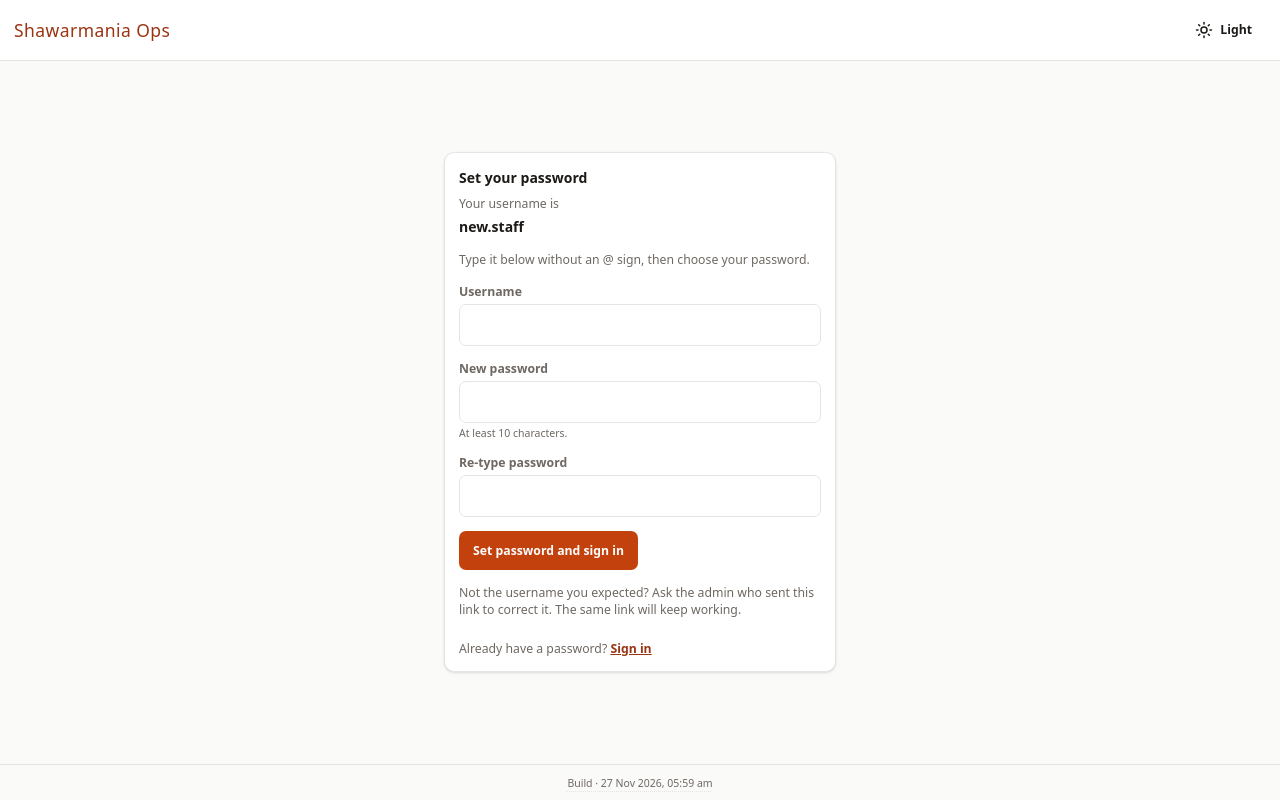
Scenario: activation › does not consume the code when the typed username differs
The image size is (1280, 800).
Expected: the text "new.staff" is shown, left=459, top=217, right=524, bottom=236
Type "other.person" into the field labelled "Username" at (640, 325), box left=459, top=304, right=821, bottom=346
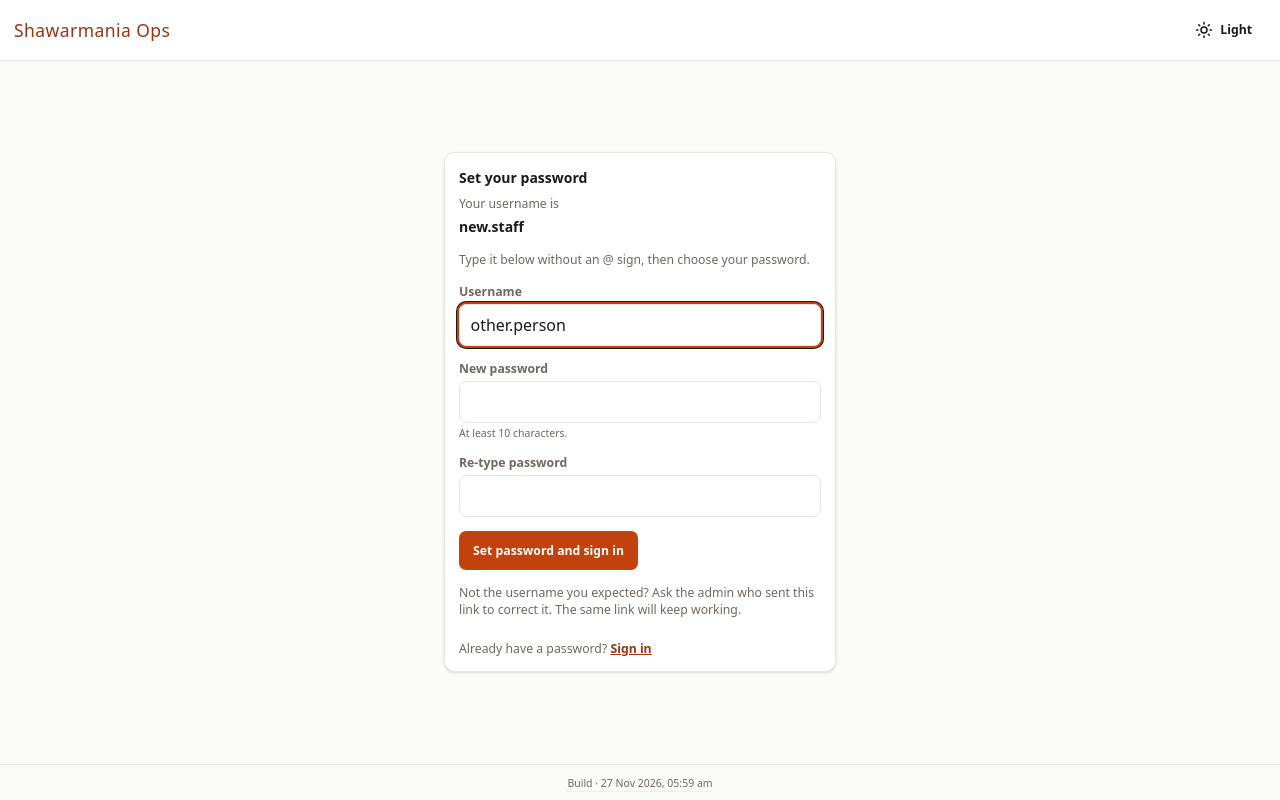
Type "a-real-password" into the password field labelled "New password" at (640, 402), box left=459, top=381, right=821, bottom=423
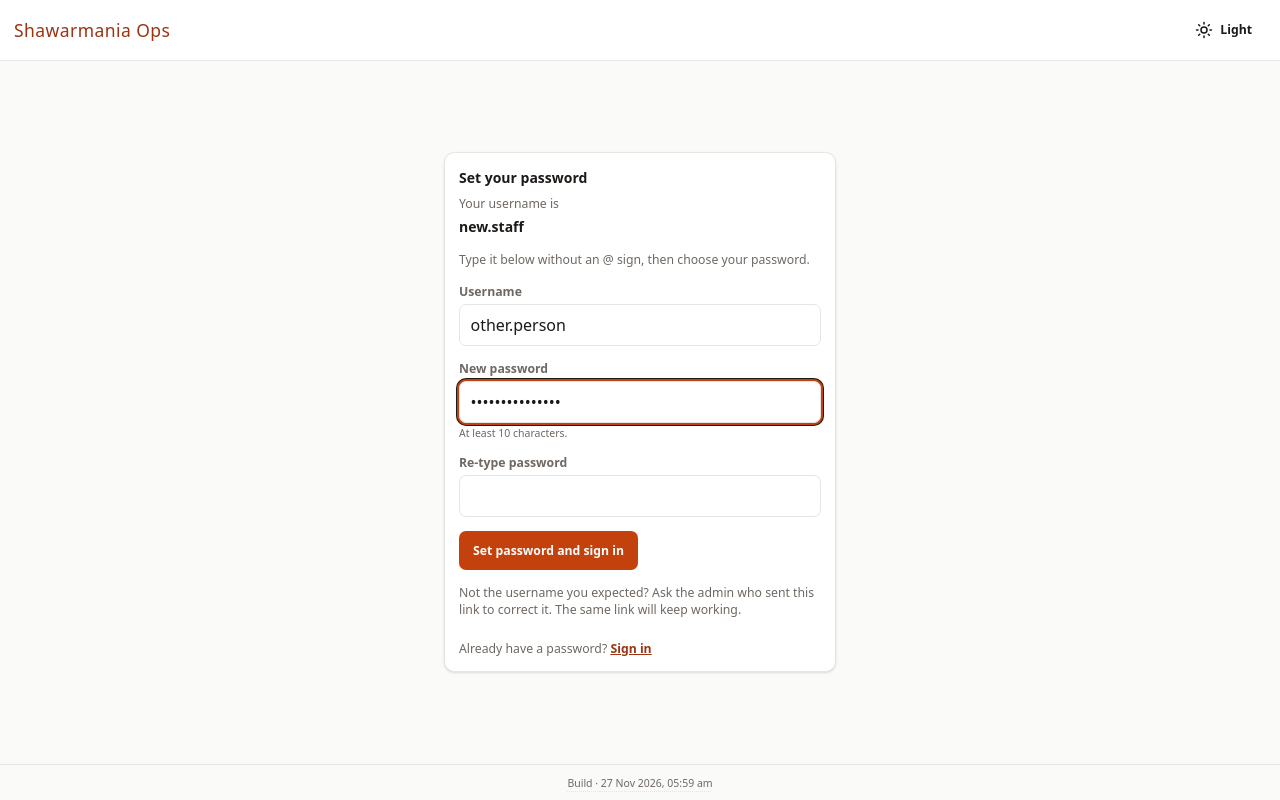
Type "a-real-password" into the password field labelled "Re-type password" at (640, 496), box left=459, top=475, right=821, bottom=517
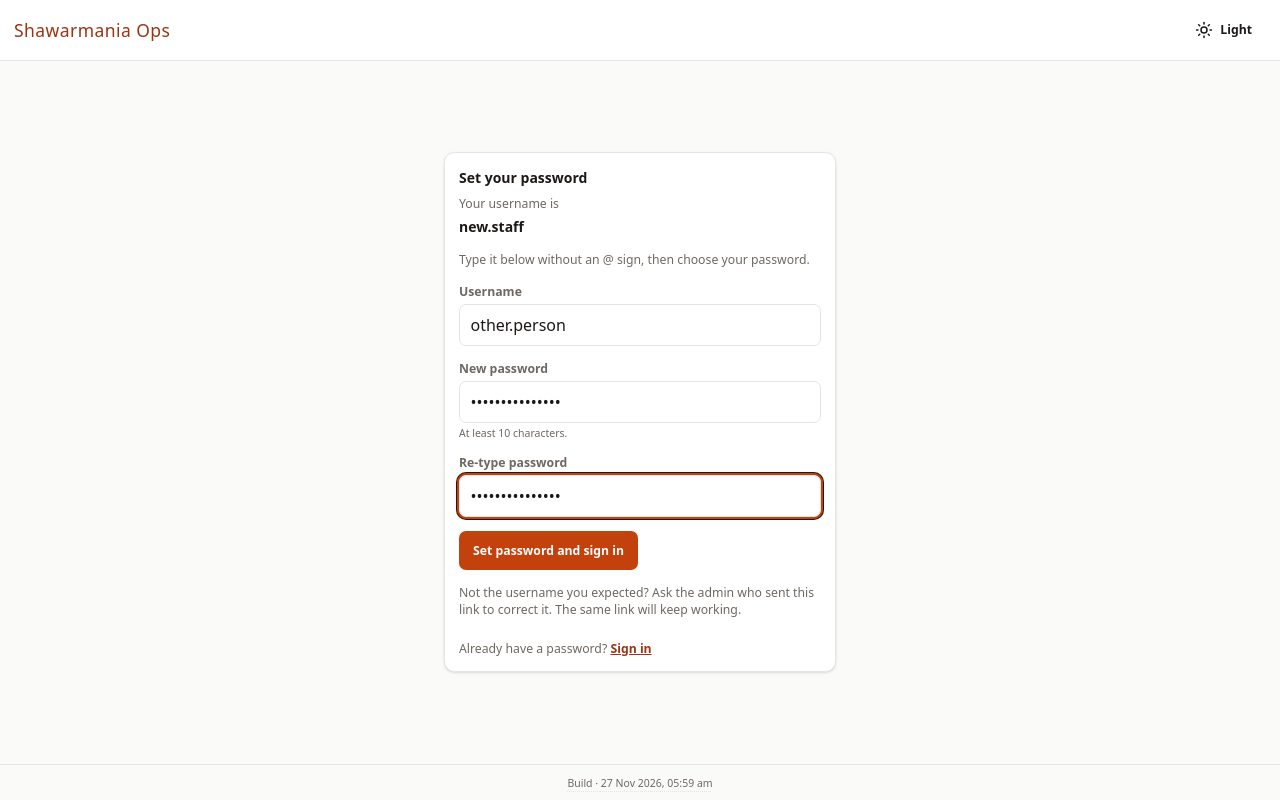
Click the button "Set password and sign in" at (549, 551), box left=459, top=531, right=638, bottom=570
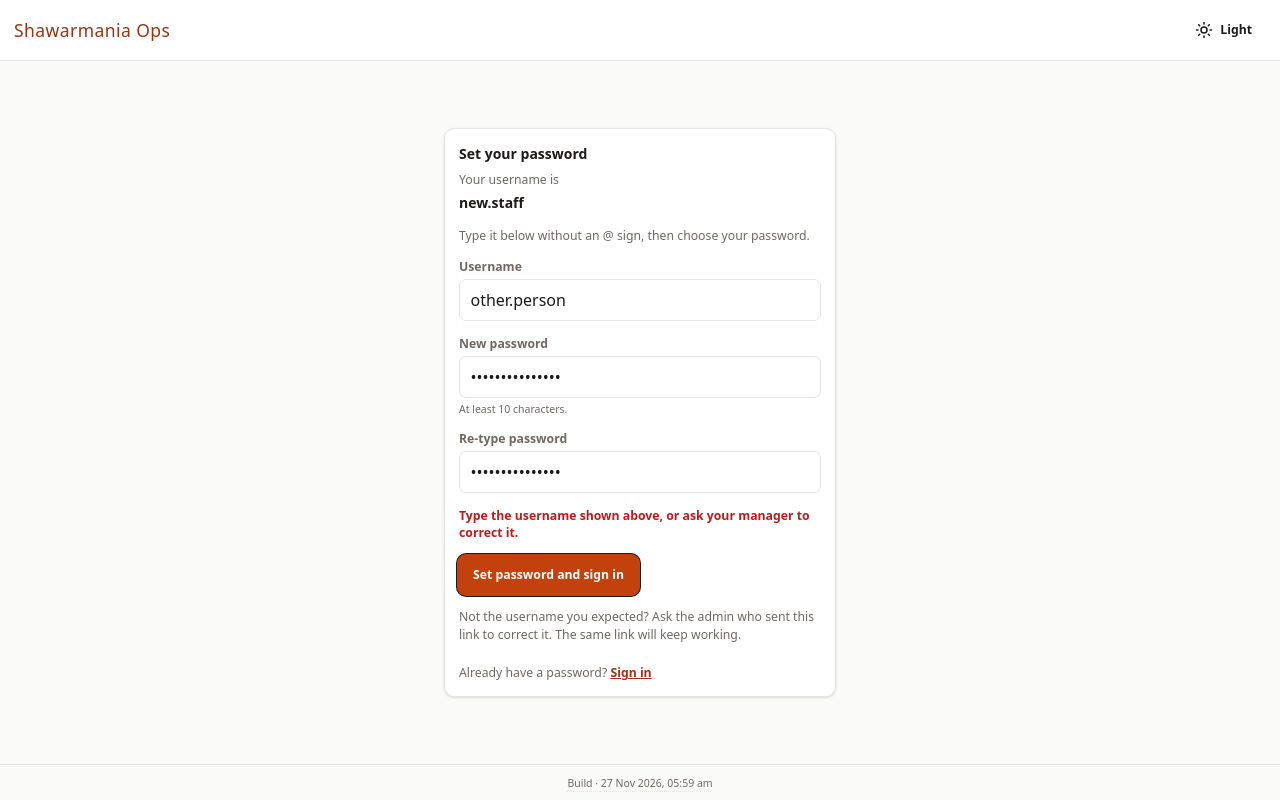
Expected: the message with test id "activate-error" shows "Type the username shown above", left=459, top=507, right=810, bottom=541
